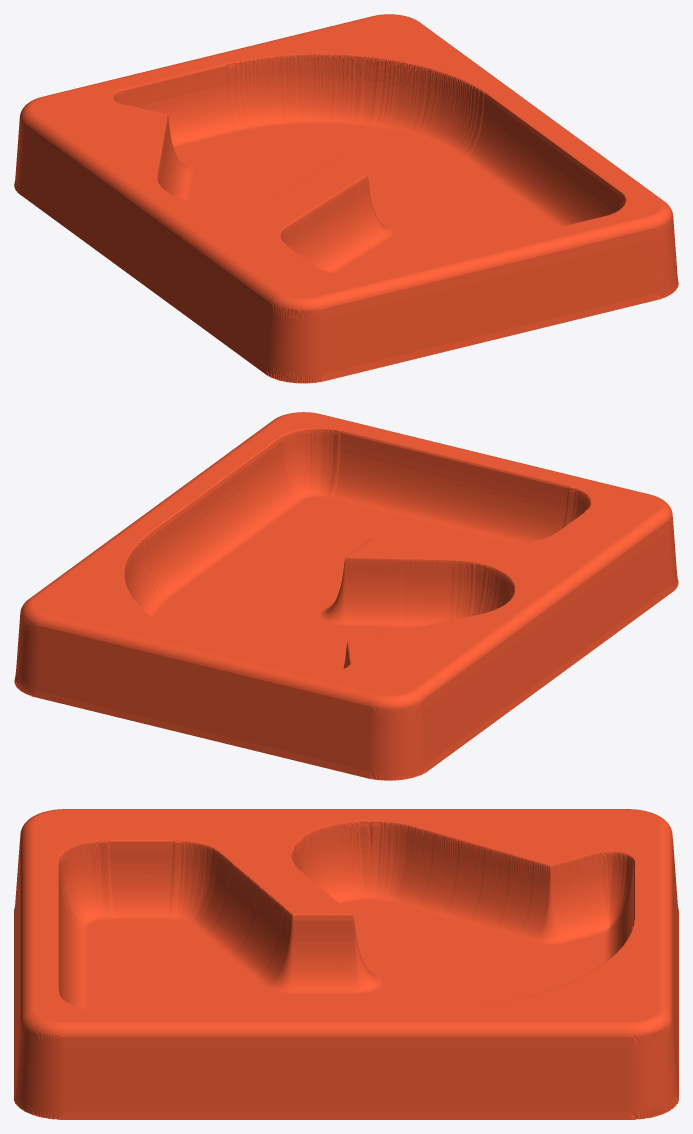
Rendered from mold.glb.
3 views of the same model, one above another, from view 1: azimuth 30°, elevation 25°; view 2: azimuth 150°, elevation 25°; view 3: azimuth 270°, elevation 25° (orthographic). The views are drawn at different scales.
Visible parts, largest first — view 1: geometry_0; view 2: geometry_0; view 3: geometry_0.
Boxes of the visible parts, x1,y1,x2,y2 form: geometry_0: (14, 14, 678, 383); geometry_0: (14, 412, 678, 780); geometry_0: (14, 809, 678, 1119).
Bounding box in the file's own units: 0.0958 × 0.0175 × 0.1178.
